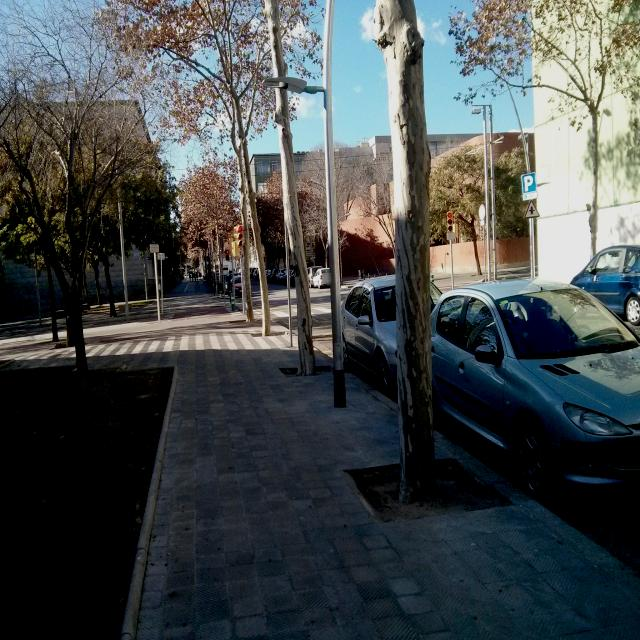car: (431, 276, 640, 503), (338, 274, 401, 396), (568, 242, 640, 328), (312, 267, 331, 288)
